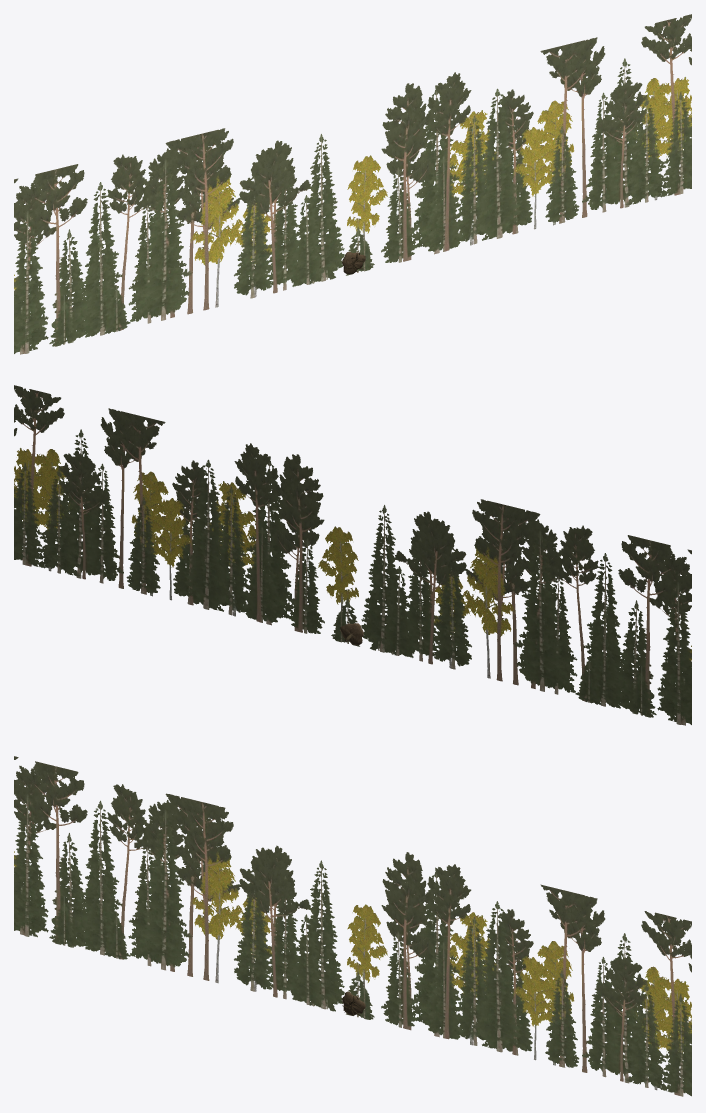
File: forest_lod.glb
The picture shows the model from 3 angles, top to bottom: view 1: azimuth 30°, elevation 25°; view 2: azimuth 150°, elevation 25°; view 3: azimuth 330°, elevation 25°; orthographic projection.
Visible parts, largest first — view 1: metsaseina; view 2: metsaseina; view 3: metsaseina.
Boxes of the visible parts, x1,y1,x2,y2 form: metsaseina: (14,14,691,354); metsaseina: (14,385,691,725); metsaseina: (14,756,691,1096).
Size of what is drawn, in the model's own units: 80 by 20 by 2.18.
Materials: 3 (3 with a texture image).
